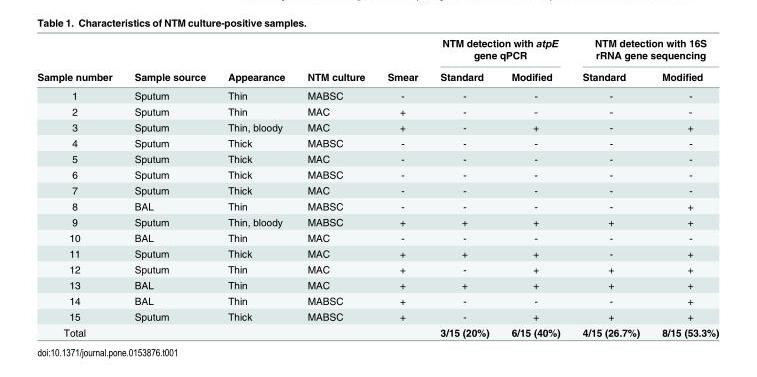table: (36, 36, 718, 337)
table column: (122, 36, 216, 337), (36, 36, 122, 337), (295, 36, 375, 337), (570, 36, 650, 337), (216, 36, 295, 337), (428, 36, 499, 337), (499, 36, 570, 337), (650, 36, 718, 337), (375, 36, 428, 337)
table column header: (36, 36, 718, 85)
table row: (36, 36, 718, 65), (36, 65, 718, 85), (36, 85, 718, 103), (36, 103, 718, 119), (36, 134, 718, 150), (36, 150, 718, 166), (36, 166, 718, 182), (36, 197, 718, 213), (36, 213, 718, 229), (36, 229, 718, 245), (36, 245, 718, 261), (36, 276, 718, 292), (36, 292, 718, 308), (36, 308, 718, 324), (36, 119, 718, 134), (36, 182, 718, 197), (36, 261, 718, 276), (36, 324, 718, 337)
table spanning cell: (122, 36, 216, 85), (570, 36, 718, 65), (36, 36, 122, 85), (428, 36, 570, 65), (295, 36, 375, 85), (216, 36, 295, 85), (375, 36, 428, 85)
